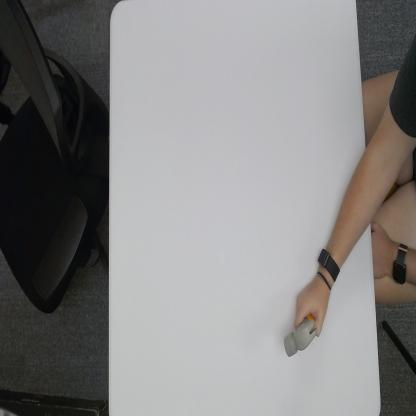Arm: (330, 122, 378, 264)
Hammer: (283, 312, 318, 358)
Hand: (294, 279, 331, 336)
